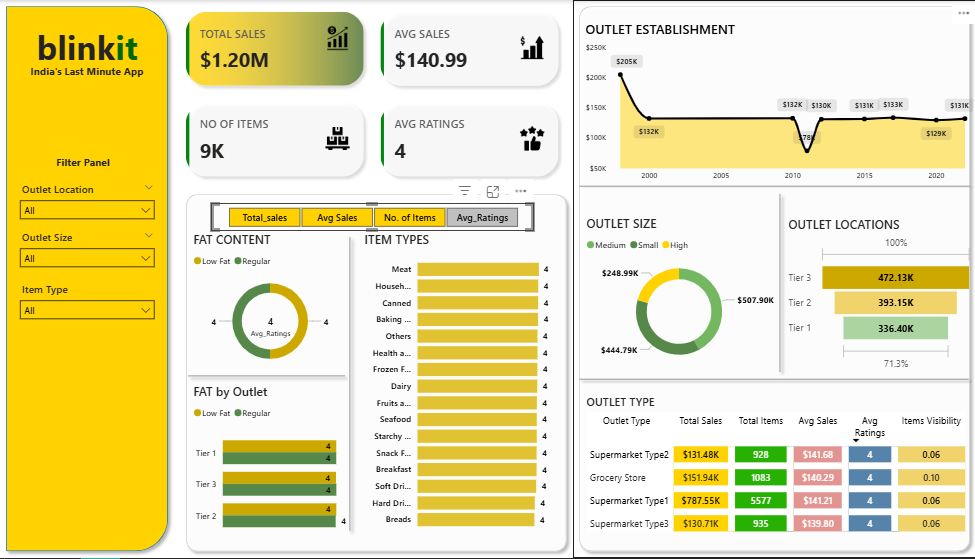

The dashboard page shown, as its layout file describes it:
{"tool":"powerbi","page":{"name":"Page 1","canvas":[1400,800],"ordinal":0},"visuals":[{"type":"shape","box":[0,0,249.9,799.2],"z":0},{"type":"textbox","box":[38.3,28.3,173.3,75],"z":1000},{"type":"textbox","box":[31.7,86.7,186.7,33.3],"z":2000},{"type":"cardVisual","fields":{"Data":["BlinkIT Grocery Data.Total_sales","BlinkIT Grocery Data.Avg Sales","BlinkIT Grocery Data.No. of Items","BlinkIT Grocery Data.Avg_Ratings"]},"box":[249.9,0,569.6,270.1],"z":3000},{"type":"shape","box":[257.4,269.5,563,529.9],"z":4000},{"type":"donutChart","title":"FAT CONTENT","fields":{"Y":["BlinkIT Grocery Data.Total_sales"],"Category":["BlinkIT Grocery Data.Item Fat Content"]},"box":[273.1,330.9,229.7,207.2],"z":5000},{"type":"slicer","fields":{"Values":["Metrics.Metrics"]},"box":[302,290.8,464.3,40.2],"z":6000},{"type":"cardVisual","fields":{"Data":["BlinkIT Grocery Data.Total_sales"]},"box":[324.5,430.5,128.5,75.5],"z":7000},{"type":"clusteredBarChart","title":"FAT by Outlet ","fields":{"Y":["BlinkIT Grocery Data.Total_sales"],"Category":["BlinkIT Grocery Data.Outlet Location Type"],"Series":["BlinkIT Grocery Data.Item Fat Content"]},"box":[272.5,549.5,228.8,231.8],"z":8000},{"type":"shape","box":[260.2,526.9,242.6,22.5],"z":9000},{"type":"shape","box":[483.5,330.9,36.9,438.6],"z":10000},{"type":"barChart","title":"ITEM TYPES","fields":{"Y":["BlinkIT Grocery Data.Total_sales"],"Category":["BlinkIT Grocery Data.Item Type"]},"box":[517.8,331.2,274,438.1],"z":11000},{"type":"shape","box":[821.9,0,578.1,799.4],"z":12000},{"type":"lineChart","title":" OUTLET ESTABLISHMENT ","fields":{"Category":["BlinkIT Grocery Data.Outlet Establishment Year"],"Y":["BlinkIT Grocery Data.Total_sales"]},"box":[834,28.6,566,240.9],"z":13000},{"type":"shape","box":[821.5,258.1,579.2,11.5],"z":14000},{"type":"donutChart","title":"OUTLET SIZE","fields":{"Y":["BlinkIT Grocery Data.Total_sales"],"Category":["BlinkIT Grocery Data.Outlet Size"]},"box":[835.5,308.6,275.5,225.8],"z":15000},{"type":"funnel","title":"OUTLET LOCATIONS","fields":{"Y":["Sum(BlinkIT Grocery Data.Total Sales)"],"Category":["BlinkIT Grocery Data.Outlet Location Type"]},"box":[1126,310.1,274,225.8],"z":16000},{"type":"pivotTable","title":"OUTLET TYPE","fields":{"Values":["BlinkIT Grocery Data.Total_sales","BlinkIT Grocery Data.No. of Items","BlinkIT Grocery Data.Avg Sales","BlinkIT Grocery Data.Avg_Ratings","Avg(BlinkIT Grocery Data.Item Visibility)"],"Rows":["BlinkIT Grocery Data.Outlet Type"]},"box":[835.7,564.3,564.3,205.7],"z":17000},{"type":"shape","box":[821.8,535.5,576.4,14.5],"z":17001},{"type":"shape","box":[1100,270,37.1,272.9],"z":17002},{"type":"slicer","fields":{"Values":["BlinkIT Grocery Data.Outlet Location Type"]},"box":[18.3,255.6,213.3,68.3],"z":17003},{"type":"slicer","fields":{"Values":["BlinkIT Grocery Data.Outlet Size"]},"box":[18.3,323.9,213.3,68.3],"z":17004},{"type":"slicer","fields":{"Values":["BlinkIT Grocery Data.Item Type"]},"box":[18.3,398.9,213.3,68.3],"z":17005},{"type":"textbox","box":[61.6,216.5,114.7,38.7],"z":17006}]}

Visuals, with their boxes in screenshot pixels (x1, y1, x2, y2), scaled from the page's 1400x800 canvas onto the 975x559 screenshot:
shape: 0,0,174,558
textbox: 27,20,147,72
textbox: 22,61,152,84
cardVisual - BlinkIT Grocery Data.Total_sales x BlinkIT Grocery Data.Avg Sales: 174,0,571,189
shape: 179,188,571,558
"FAT CONTENT" donutChart: 190,231,350,376
slicer - Metrics.Metrics: 210,203,534,231
cardVisual - BlinkIT Grocery Data.Total_sales: 226,301,315,354
"FAT by Outlet " clusteredBarChart: 190,384,349,546
shape: 181,368,350,384
shape: 337,231,362,538
"ITEM TYPES" barChart: 361,231,551,538
shape: 572,0,974,558
" OUTLET ESTABLISHMENT " lineChart: 581,20,974,188
shape: 572,180,974,188
"OUTLET SIZE" donutChart: 582,216,774,373
"OUTLET LOCATIONS" funnel: 784,217,974,374
"OUTLET TYPE" pivotTable: 582,394,974,538
shape: 572,374,974,384
shape: 766,189,792,379
slicer - BlinkIT Grocery Data.Outlet Location Type: 13,179,161,226
slicer - BlinkIT Grocery Data.Outlet Size: 13,226,161,274
slicer - BlinkIT Grocery Data.Item Type: 13,279,161,326
textbox: 43,151,123,178
